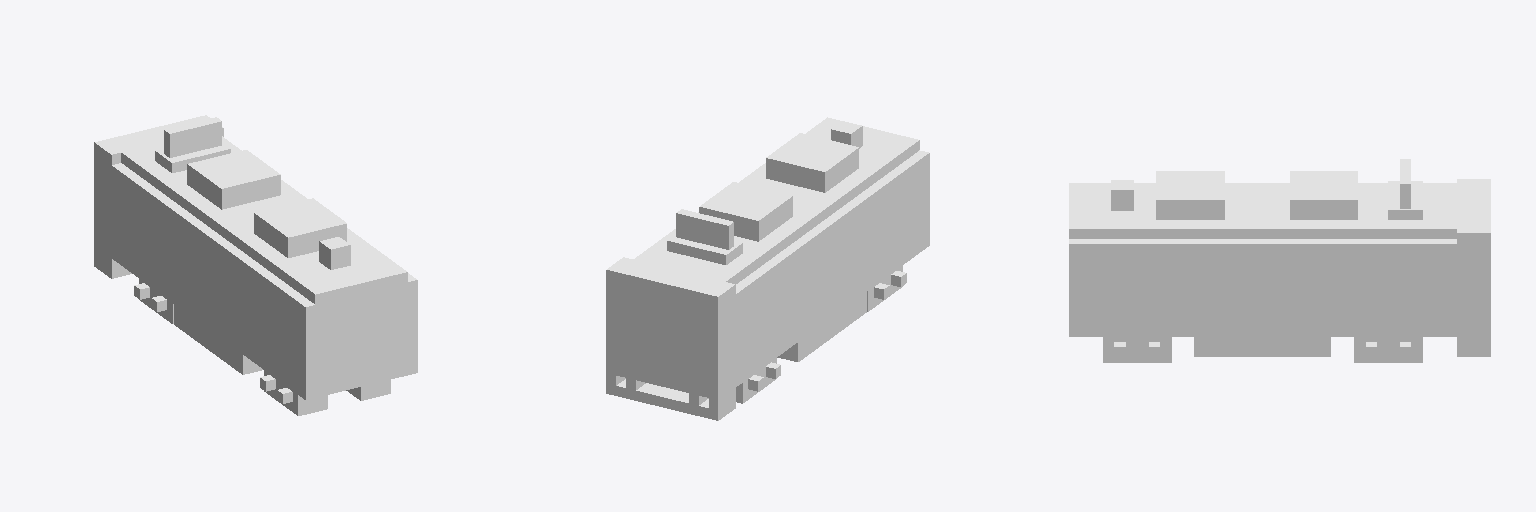
File: train3.obj
3 views of the same model, side by side, from view 1: azimuth 30°, elevation 25°; view 2: azimuth 150°, elevation 25°; view 3: azimuth 270°, elevation 25° (orthographic).
Parts seen in each view (by area): view 1: object 1; view 2: object 1; view 3: object 1.
Part boxes in pixels (x1,y1,x2,y2): object 1: (94, 115, 417, 415); object 1: (606, 117, 929, 420); object 1: (1069, 159, 1490, 362).
Size of the model in its own units: 3.4 by 4.9 by 11.1.